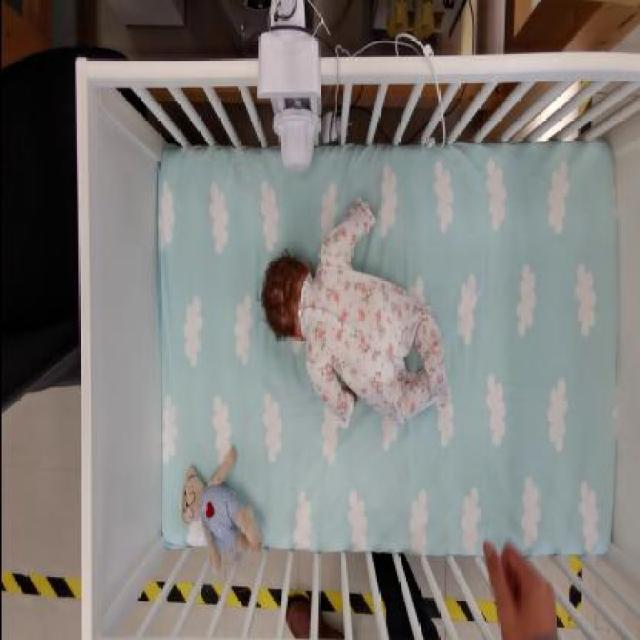baby: (259, 198, 450, 426)
